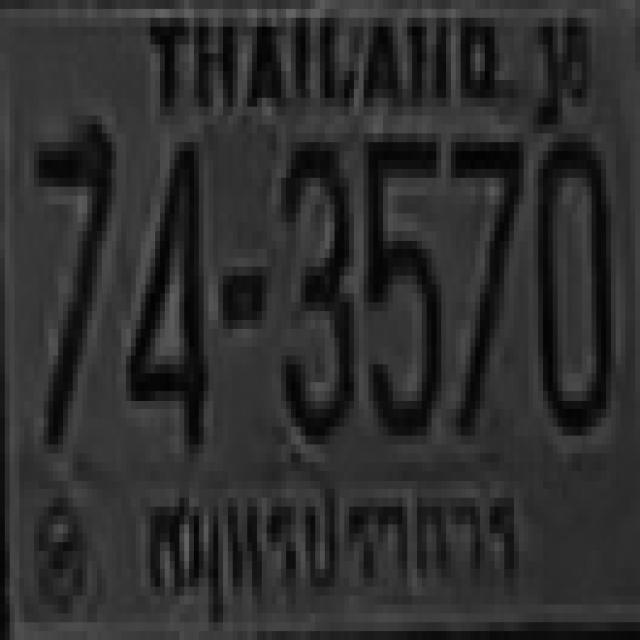0: (533, 133, 606, 427)
3: (279, 134, 351, 436)
4: (126, 133, 204, 444)
5: (359, 125, 436, 426)
7: (32, 116, 109, 444), (446, 133, 519, 427)
SamutPrakan: (137, 478, 528, 630)
